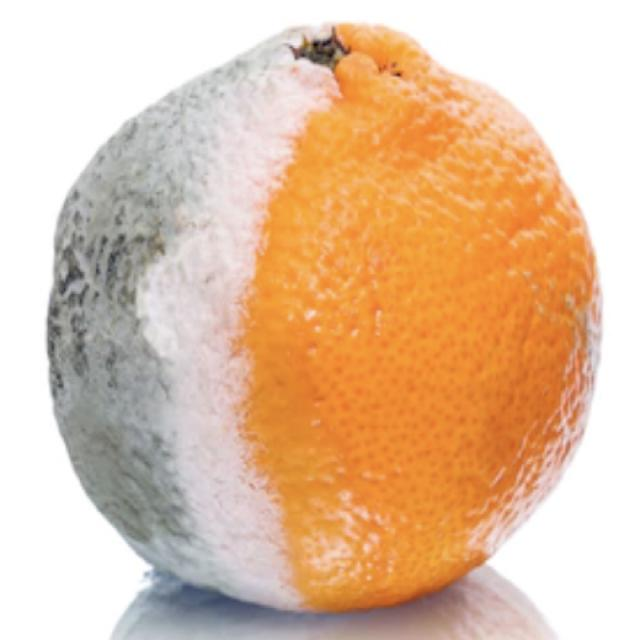rotten-orange: (43, 19, 610, 606)
